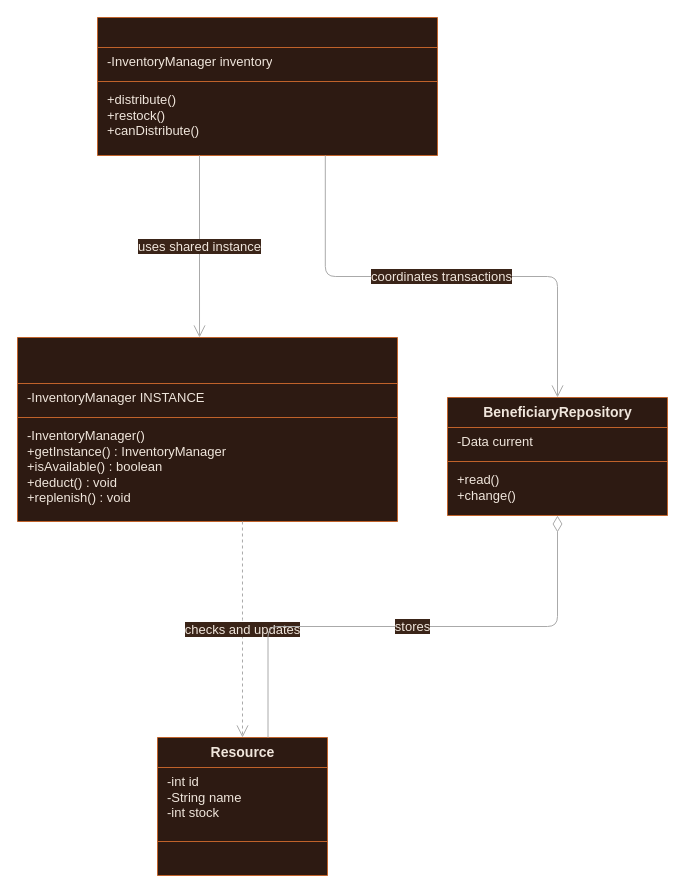
Some shapes in this 685 by 893 pixel diagram are drawn without their labels. The shapes that lost their labels are listed below. From the top down, each one's box as (x1, y1, x2, y2) in pixels, then its label:
(96, 16, 438, 156): BeneficiaryService
(16, 336, 398, 522): «Singleton» InventoryManager
